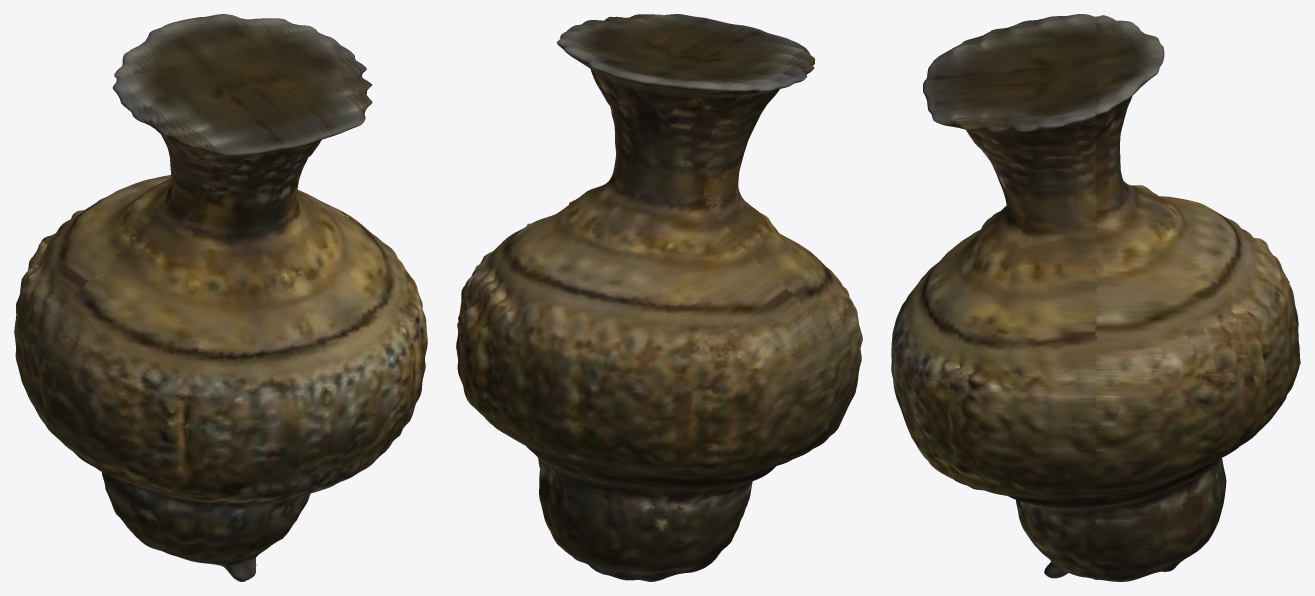
The model's file is kfl-2285.glb.
3 renders of one model, left to right at view 1: azimuth 30°, elevation 25°; view 2: azimuth 150°, elevation 25°; view 3: azimuth 270°, elevation 25°, orthographic.
Visible parts, largest first — view 1: geometry_0; view 2: geometry_0; view 3: geometry_0.
Boxes of the visible parts, left/top/right/bottom form: geometry_0: left=14, top=14, right=427, bottom=581; geometry_0: left=456, top=14, right=862, bottom=581; geometry_0: left=891, top=14, right=1300, bottom=581.
Size of the model in its own units: 0.7143 by 0.9942 by 0.7066.
Materials: 1 (1 with a texture image).
